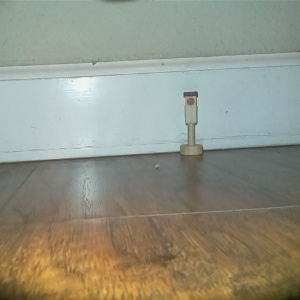traffic light red: (177, 90, 204, 156)
